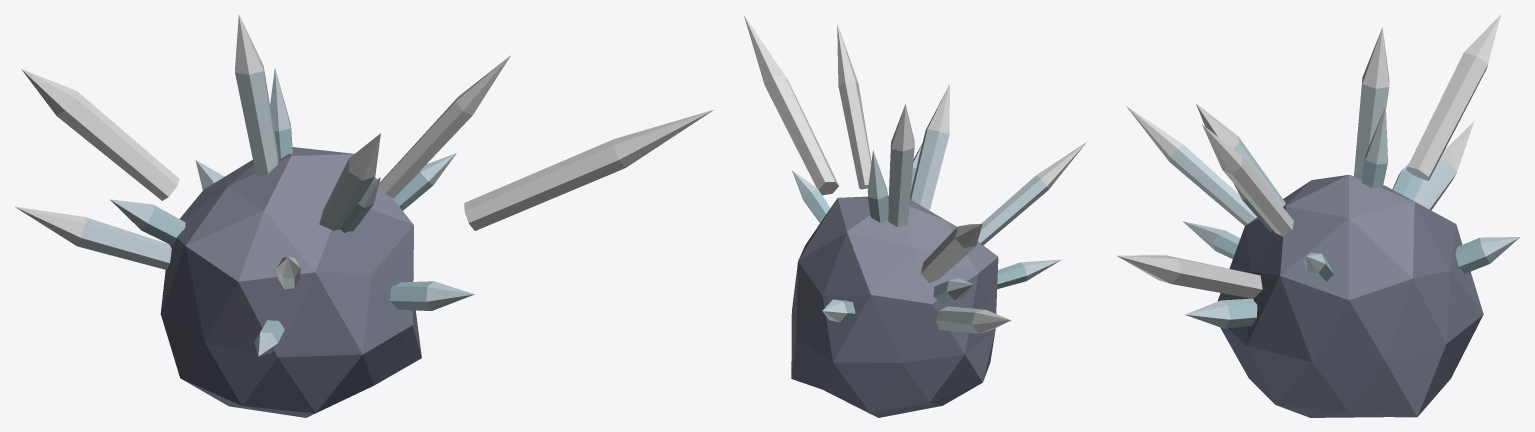
File: Rocks_Ore_Starite_v6_IcoblobSilverCyan.glb
3 views of the same model, side by side, from view 1: azimuth 30°, elevation 25°; view 2: azimuth 150°, elevation 25°; view 3: azimuth 270°, elevation 25° (orthographic). The views are drawn at different scales.
Visible parts, largest first — view 1: v6; view 2: v6; view 3: v6.
Part boxes in pixels (x1,y1,x2,y2): v6: (15,14,713,417); v6: (743,14,1086,417); v6: (1117,14,1519,417).
Size of the model in its own units: 4.86 by 3.5 by 3.48.
